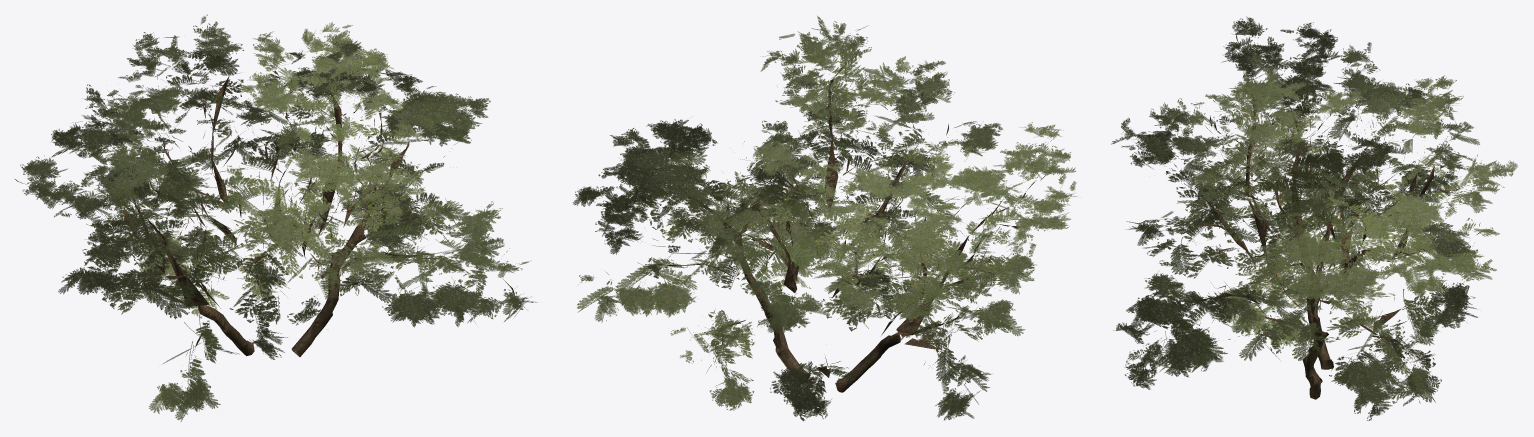
Rendered from gtree_maple.far.glb.
The picture shows the model from 3 angles, left to right: view 1: azimuth 30°, elevation 25°; view 2: azimuth 150°, elevation 25°; view 3: azimuth 270°, elevation 25°; orthographic projection. The views are drawn at different scales.
Parts seen in each view (by area): view 1: gtree_maple_v0_lod0; view 2: gtree_maple_v0_lod0; view 3: gtree_maple_v0_lod0.
Boxes of the visible parts, x1,y1,x2,y2 form: gtree_maple_v0_lod0: (15, 14, 537, 421); gtree_maple_v0_lod0: (573, 16, 1076, 421); gtree_maple_v0_lod0: (1111, 16, 1517, 420).
Bounding box in the file's own units: 8.2 × 5.87 × 6.38.
Materials: 3 (3 with a texture image).
